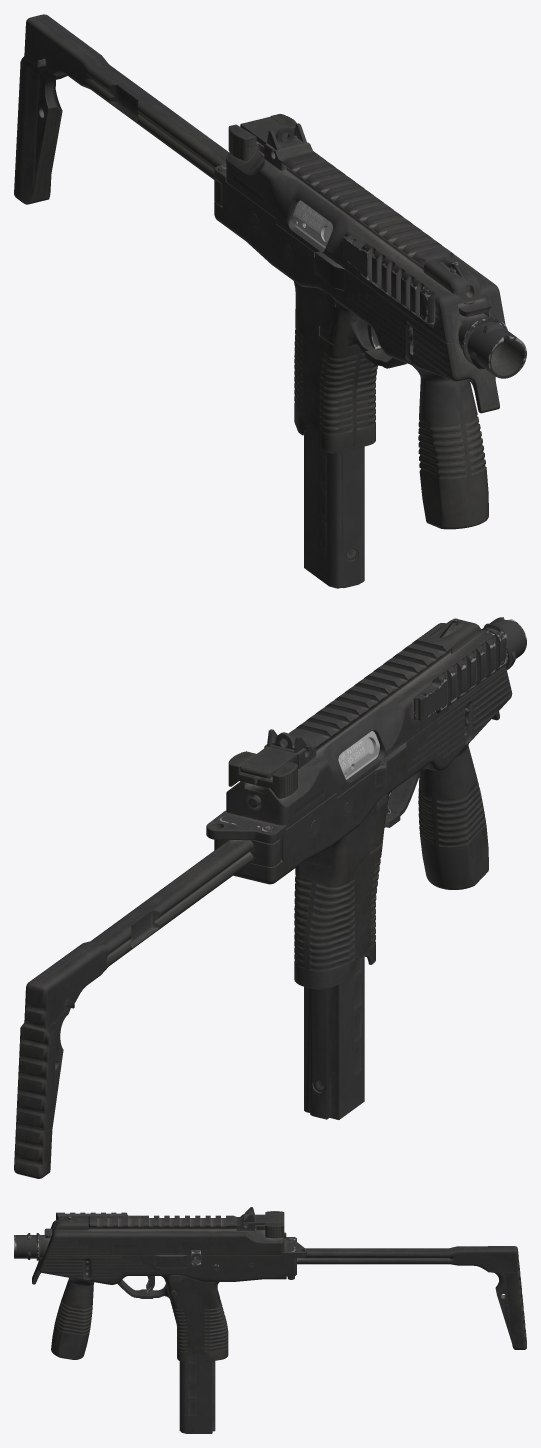
The picture shows the model from 3 angles, top to bottom: view 1: azimuth 30°, elevation 25°; view 2: azimuth 150°, elevation 25°; view 3: azimuth 270°, elevation 25°; orthographic projection. The views are drawn at different scales.
Parts seen in each view (by area): view 1: MP9_CS2; view 2: MP9_CS2; view 3: MP9_CS2.
Part boxes in pixels (x1,y1,x2,y2): MP9_CS2: (14, 14, 526, 588); MP9_CS2: (14, 617, 526, 1178); MP9_CS2: (14, 1207, 526, 1433).
Bounding box in the file's own units: 0.0512 × 0.2649 × 0.5631.
1 material, 1 textured.
